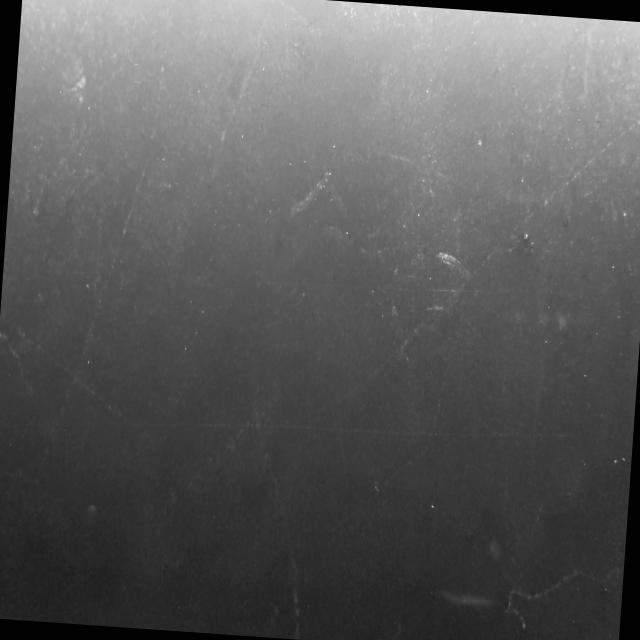beta: (339, 69, 640, 428), (12, 17, 172, 540), (159, 333, 330, 532), (230, 378, 318, 640), (5, 324, 167, 454), (373, 291, 467, 498), (208, 0, 277, 182), (504, 556, 623, 638), (0, 321, 39, 413)
